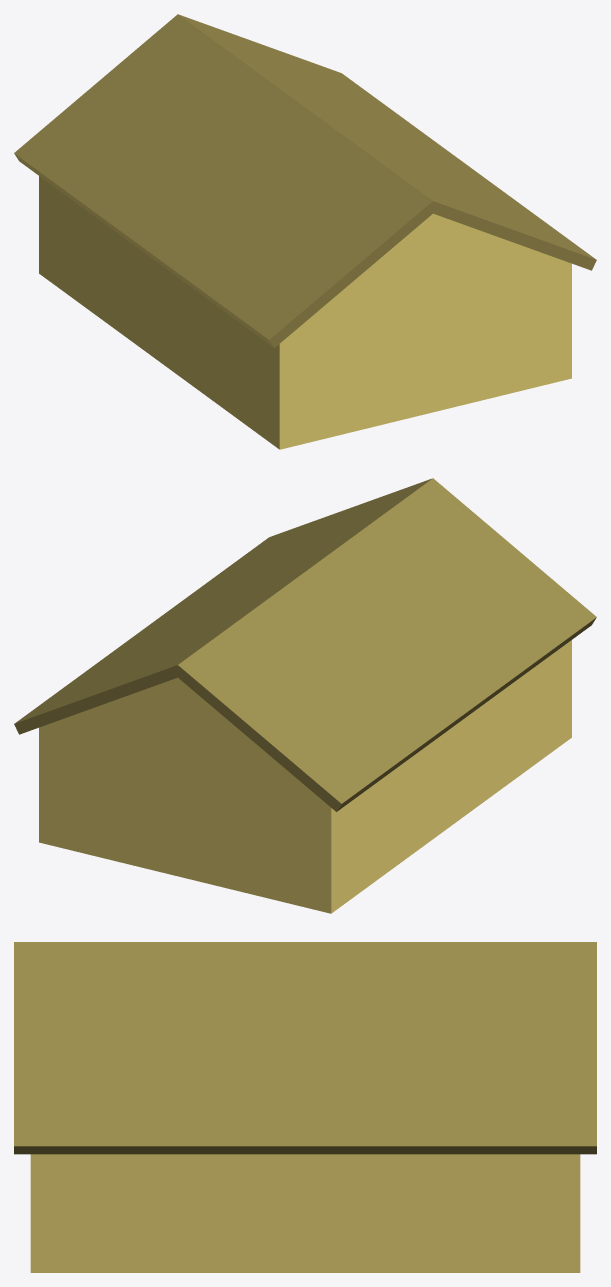
File: result.glb
3 views of the same model, one above another, from view 1: azimuth 30°, elevation 25°; view 2: azimuth 150°, elevation 25°; view 3: azimuth 270°, elevation 25° (orthographic). The views are drawn at different scales.
Visible parts, largest first — view 1: 484c7a10-152b-4537-a5a6-d01cd9273f1b__undefined (×2), e492595e-f8a4-468f-9fde-bc6f8e370126__undefined; view 2: 484c7a10-152b-4537-a5a6-d01cd9273f1b__undefined (×2), e492595e-f8a4-468f-9fde-bc6f8e370126__undefined; view 3: 484c7a10-152b-4537-a5a6-d01cd9273f1b__undefined, e492595e-f8a4-468f-9fde-bc6f8e370126__undefined.
Boxes of the visible parts, left/top/right/bottom form: 484c7a10-152b-4537-a5a6-d01cd9273f1b__undefined (×2): left=14, top=14, right=596, bottom=347; e492595e-f8a4-468f-9fde-bc6f8e370126__undefined: left=39, top=176, right=571, bottom=449; 484c7a10-152b-4537-a5a6-d01cd9273f1b__undefined (×2): left=14, top=478, right=596, bottom=811; e492595e-f8a4-468f-9fde-bc6f8e370126__undefined: left=39, top=640, right=571, bottom=913; 484c7a10-152b-4537-a5a6-d01cd9273f1b__undefined: left=14, top=942, right=596, bottom=1154; e492595e-f8a4-468f-9fde-bc6f8e370126__undefined: left=30, top=1154, right=580, bottom=1272.
Bounding box in the file's own units: 785 × 500 × 1059.
